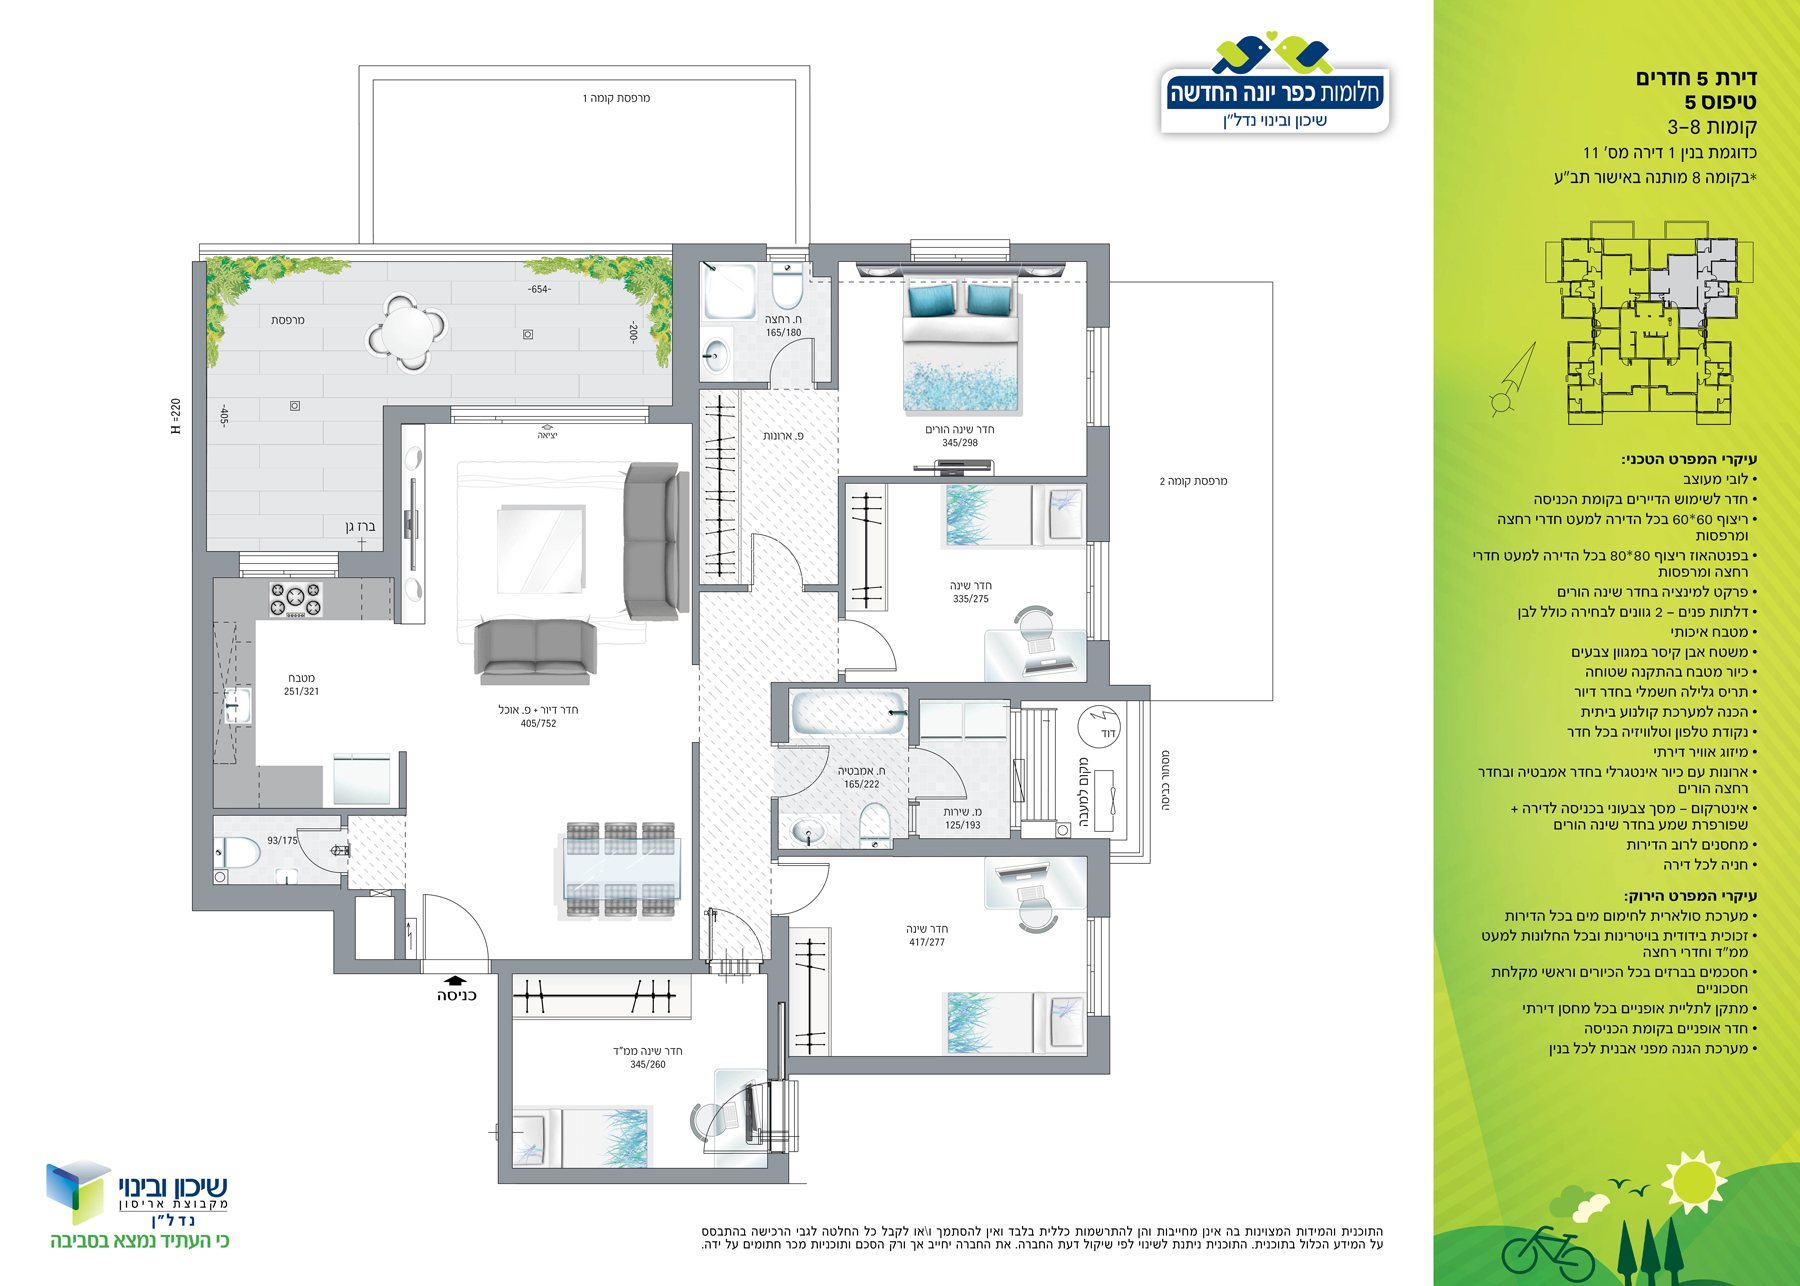door: (417, 887, 497, 958), (780, 857, 844, 919), (780, 740, 844, 802), (919, 743, 983, 804), (847, 614, 910, 675), (743, 527, 805, 587), (705, 899, 766, 953), (289, 823, 342, 875)
wall: (192, 551, 214, 887), (787, 1054, 1111, 1074), (673, 244, 701, 423), (498, 1166, 787, 1183), (193, 885, 337, 912), (383, 405, 403, 583), (497, 958, 513, 1165), (1086, 241, 1111, 327), (335, 960, 420, 973)
window: (451, 406, 651, 426), (1084, 326, 1111, 427), (1084, 540, 1111, 642), (241, 551, 339, 579), (908, 238, 1011, 264), (1085, 914, 1111, 1015)
